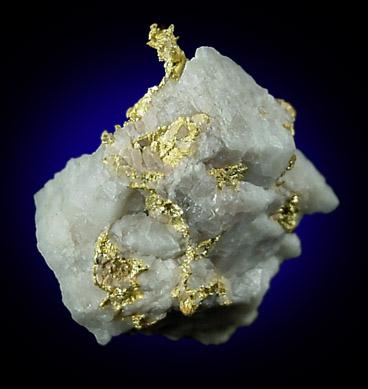gold: (115, 156, 223, 316), (127, 24, 188, 121), (93, 231, 148, 314), (134, 114, 209, 166), (211, 164, 249, 189), (275, 195, 299, 232), (132, 314, 167, 330), (101, 130, 115, 144)
